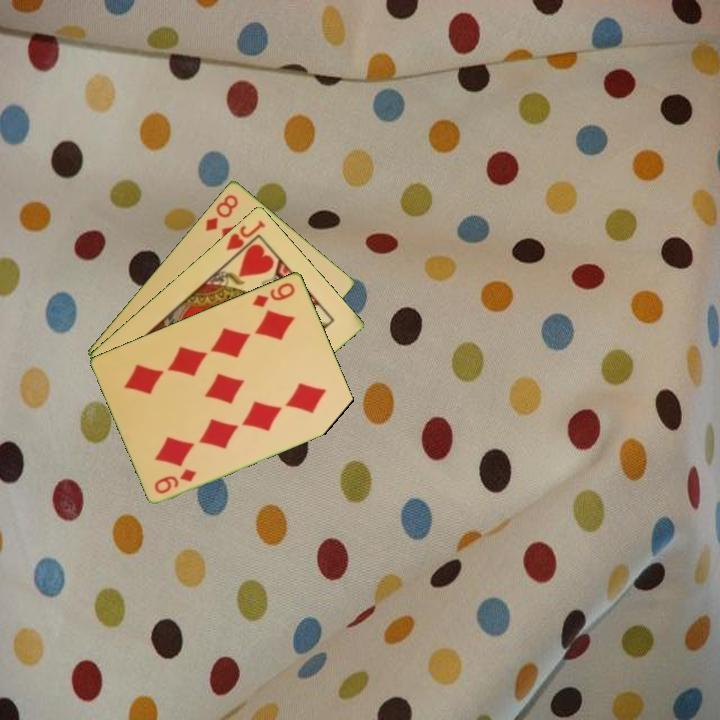8d: (202, 190, 241, 234)
9d: (151, 465, 199, 497), (249, 279, 298, 310)
Jh: (222, 216, 268, 253)
